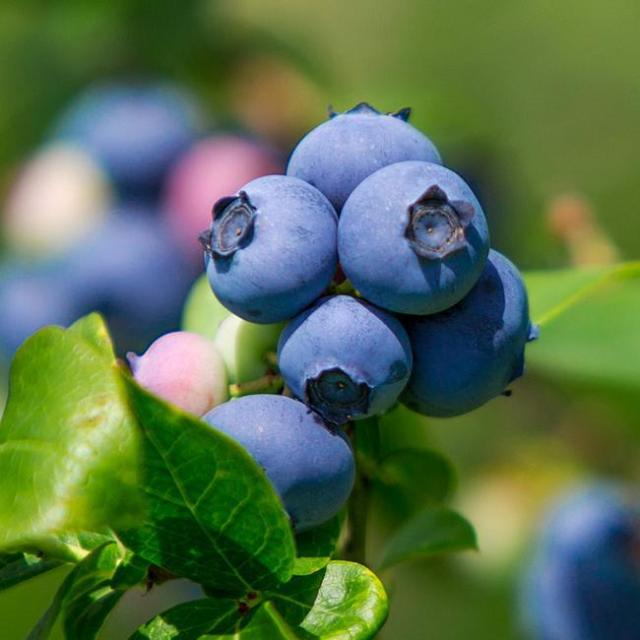BlueBerry - v1: (400, 236, 558, 428), (334, 155, 505, 321), (189, 383, 367, 541), (261, 279, 429, 433), (196, 170, 358, 328), (275, 88, 453, 224), (120, 315, 241, 437)
